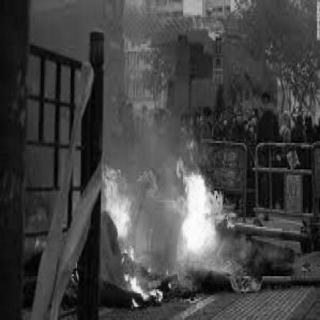Fire: (28, 234, 48, 246)
Smoke: (237, 5, 297, 73)
